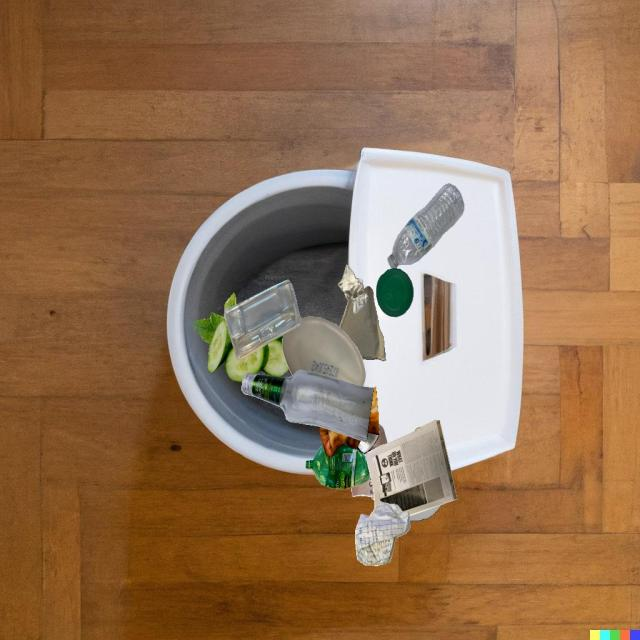biowaste: (193, 293, 289, 382), (318, 426, 361, 457), (367, 387, 378, 435)
cardboard: (339, 286, 386, 361)
glass: (241, 370, 374, 442)
metal: (357, 428, 379, 454)
paper: (365, 420, 457, 516), (355, 501, 410, 566), (337, 265, 368, 314), (346, 443, 370, 479), (351, 475, 374, 500), (409, 505, 441, 521), (370, 423, 388, 451)
plastic: (387, 183, 464, 269), (224, 279, 301, 361), (282, 316, 366, 386), (305, 443, 370, 489), (376, 268, 414, 317)
